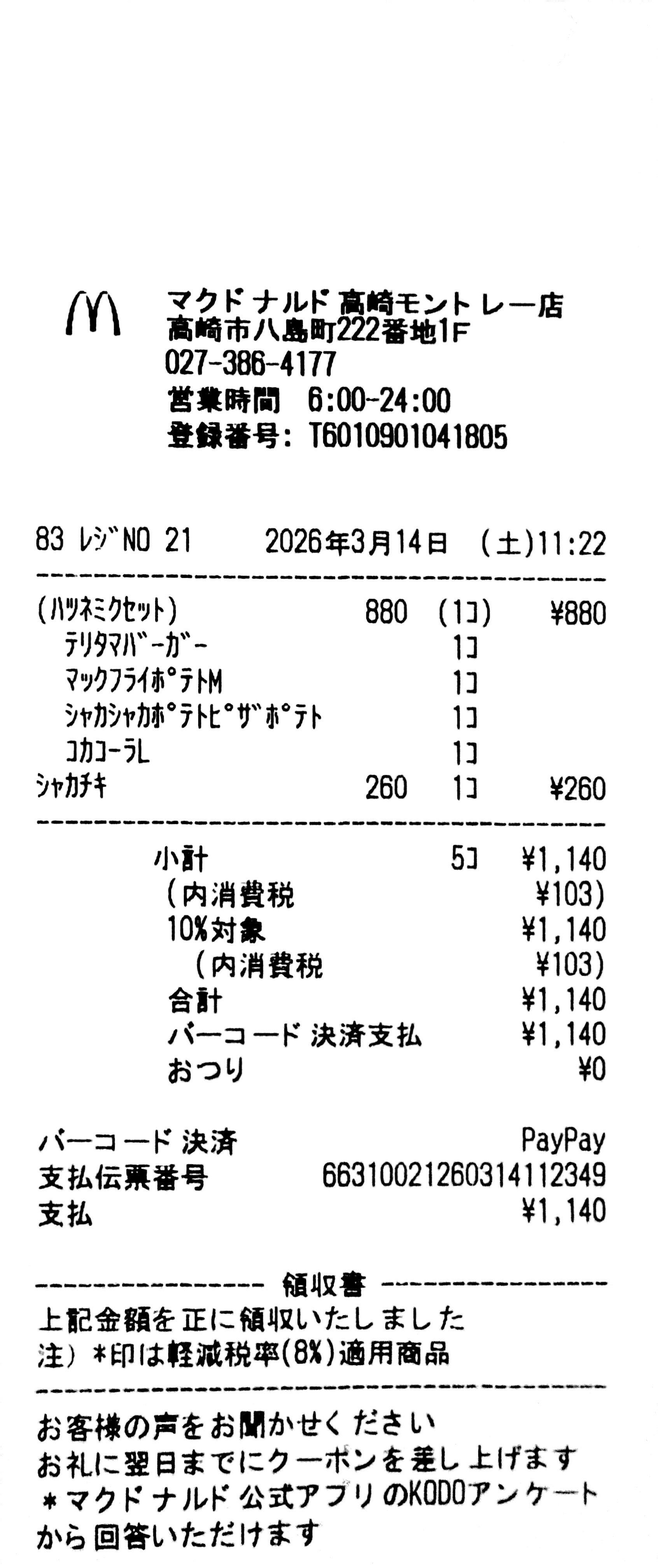Date: (265, 527, 447, 556)
Pay: (168, 986, 606, 1014)
Shopname: (166, 288, 330, 314)
Telnum: (163, 348, 339, 378)
